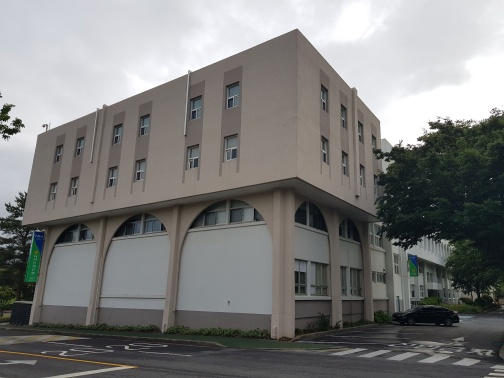Main Building of University: (18, 28, 392, 336), (42, 64, 248, 194), (313, 63, 382, 205), (48, 196, 269, 240), (292, 200, 368, 311), (25, 224, 45, 287), (406, 252, 420, 278)
